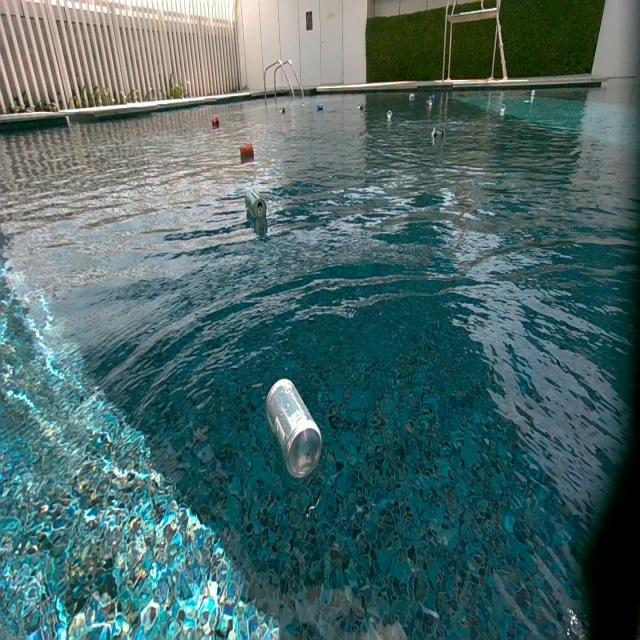Cans: (267, 377, 325, 481), (244, 190, 266, 220), (240, 144, 254, 158), (431, 128, 444, 143), (212, 119, 220, 130), (316, 103, 324, 113), (530, 91, 536, 103), (386, 110, 393, 120), (278, 107, 286, 115), (409, 94, 417, 102), (358, 103, 364, 113), (499, 105, 506, 113), (427, 97, 434, 105), (426, 100, 432, 109)
